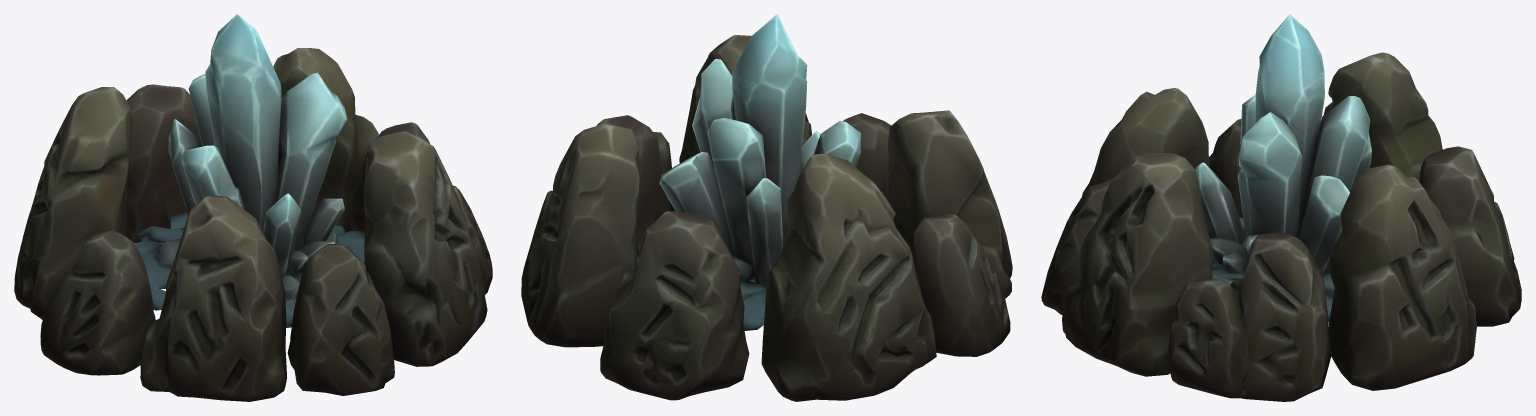
The model's file is mana.glb.
3 renders of one model, left to right at view 1: azimuth 30°, elevation 25°; view 2: azimuth 150°, elevation 25°; view 3: azimuth 270°, elevation 25°, orthographic. The views are drawn at different scales.
Visible parts, largest first — view 1: geometry_0; view 2: geometry_0; view 3: geometry_0.
Boxes of the visible parts, box(x1,y1,x2,y2) form: geometry_0: box(14, 14, 492, 401); geometry_0: box(521, 14, 1012, 401); geometry_0: box(1041, 14, 1521, 401).
Bounding box in the file's own units: 1 × 0.6479 × 0.9975.
1 material, 1 textured.
